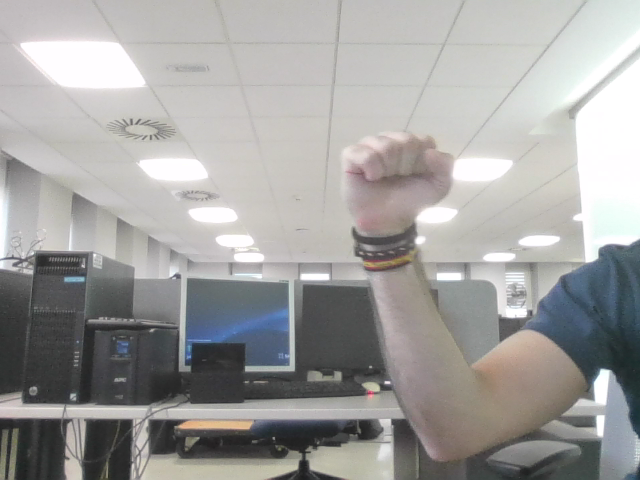Puño: (356, 141, 441, 205)
